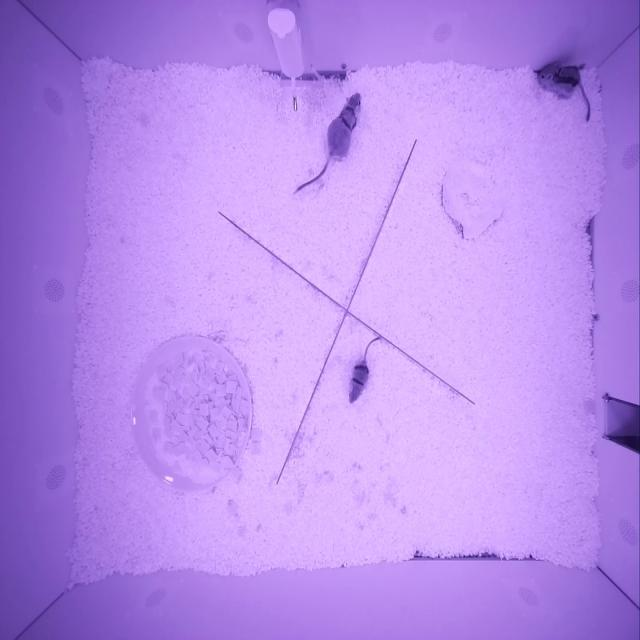adult_front: (326, 92, 362, 158)
pup_h_stripe: (348, 360, 368, 404)
pup_v_stripe: (536, 62, 581, 98)
